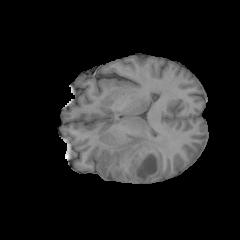glioma: (98, 131, 172, 183)
